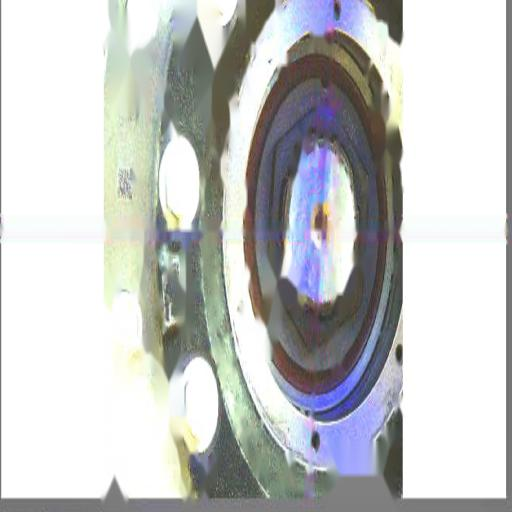center: (311, 202, 330, 246)
notch: (316, 65, 332, 102)
